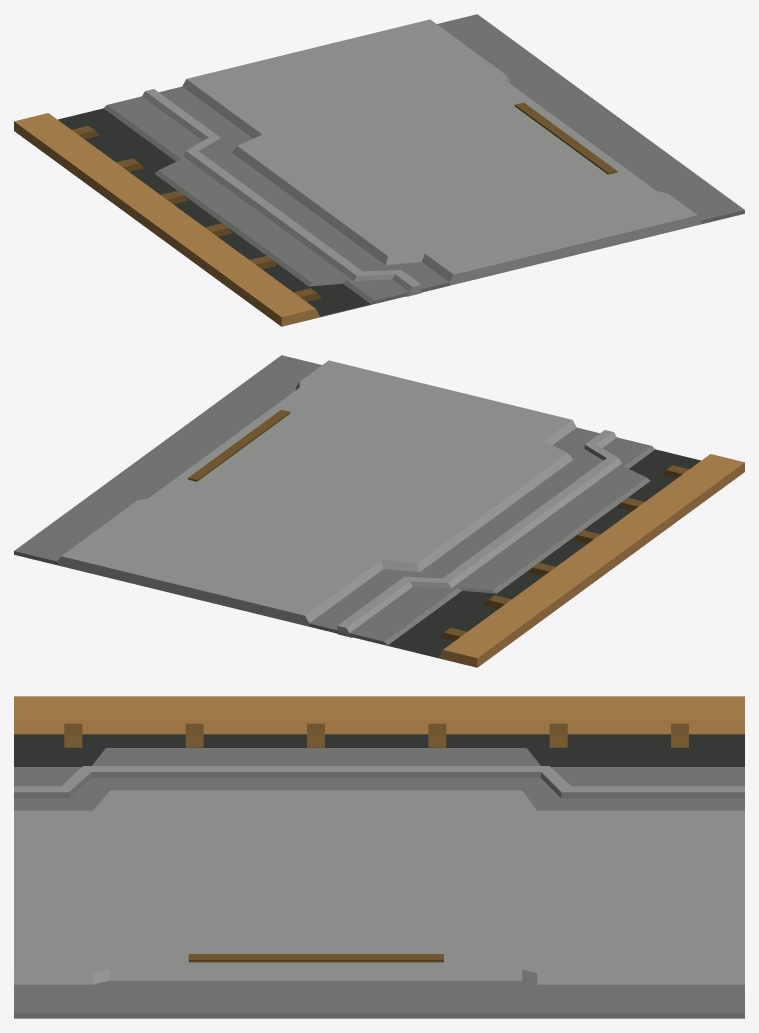
Rendered from quaternius-modular-sci-fi-floor-tile-side.glb.
3 renders of one model, top to bottom at view 1: azimuth 30°, elevation 25°; view 2: azimuth 150°, elevation 25°; view 3: azimuth 270°, elevation 25°, orthographic. The views are drawn at different scales.
Visible parts, largest first — view 1: FloorTile_Side; view 2: FloorTile_Side; view 3: FloorTile_Side.
Part boxes in pixels (<box>): FloorTile_Side: <box>14,14,744,326</box>; FloorTile_Side: <box>14,355,744,667</box>; FloorTile_Side: <box>14,696,744,1018</box>.
Bounding box in the file's own units: 2 × 0.0684 × 2.
1 material, 1 textured.
